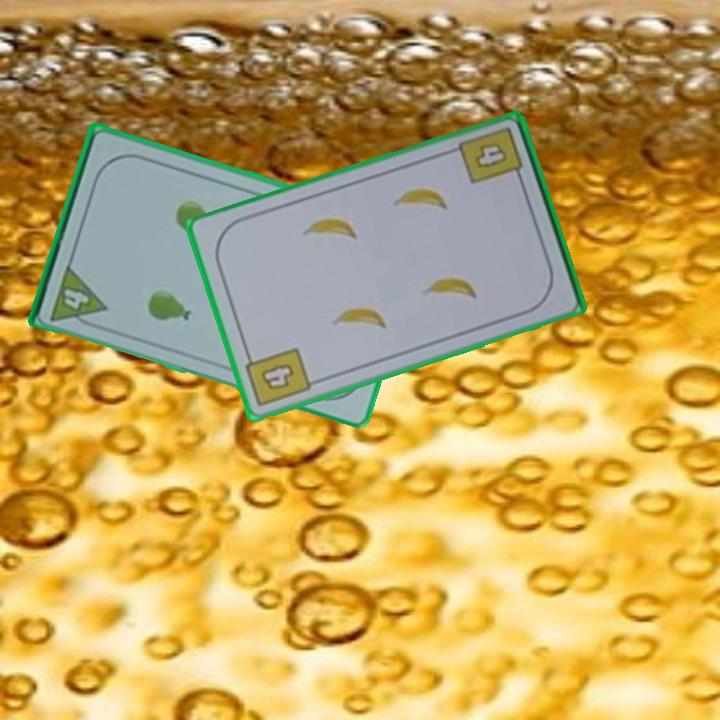4b: (241, 344, 314, 411), (455, 123, 527, 188)
4p: (47, 260, 110, 332)
